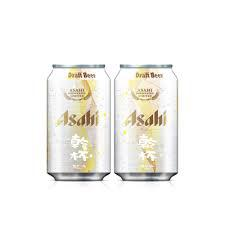beer: (46, 63, 112, 181), (113, 64, 178, 183)
